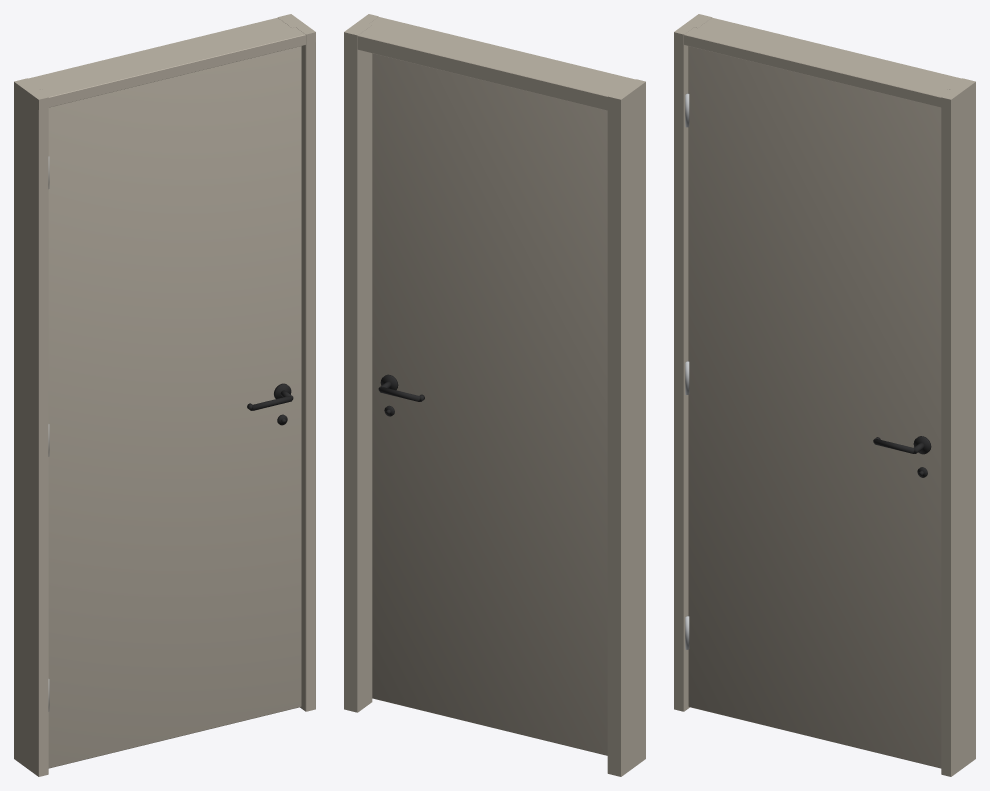
Rendered from door.glb.
3 views of the same model, side by side, from view 1: azimuth 30°, elevation 25°; view 2: azimuth 150°, elevation 25°; view 3: azimuth 330°, elevation 25° (orthographic).
Parts seen in each view (by area): view 1: leaf, jamb_l, jamb_r, head, leaf_handle_f; view 2: leaf, jamb_l, jamb_r, head, leaf_handle_b; view 3: leaf, jamb_r, jamb_l, head, leaf_handle_f.
Boxes of the visible parts, x1,y1,x2,y2 form: leaf: [48, 46, 301, 768]; jamb_l: [14, 78, 48, 776]; jamb_r: [278, 14, 315, 711]; head: [28, 17, 315, 109]; leaf_handle_f: [247, 383, 293, 425]; leaf: [372, 53, 607, 755]; jamb_l: [607, 79, 645, 776]; jamb_r: [344, 14, 378, 712]; head: [344, 17, 634, 113]; leaf_handle_b: [378, 374, 424, 416]; leaf: [688, 46, 941, 768]; jamb_r: [941, 78, 975, 776]; jamb_l: [674, 14, 711, 711]; head: [674, 17, 961, 109]; leaf_handle_f: [873, 436, 931, 477].
Size of the model in its own units: 0.9 by 2.1 by 0.1805.
